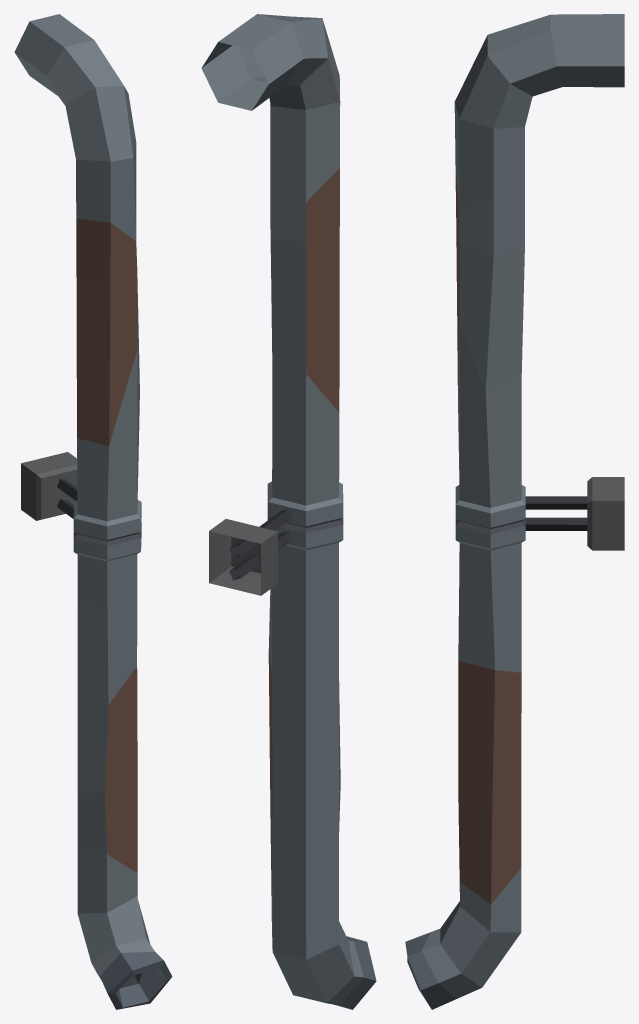
The model's file is SM_Rainwater_Pipe_3m.fbx.
3 renders of one model, left to right at view 1: azimuth 30°, elevation 25°; view 2: azimuth 150°, elevation 25°; view 3: azimuth 270°, elevation 25°, orthographic. The views are drawn at different scales.
Visible parts, largest first — view 1: SM_Rainwater_Pipe_3m; view 2: SM_Rainwater_Pipe_3m; view 3: SM_Rainwater_Pipe_3m.
Boxes of the visible parts, x1,y1,x2,y2 form: SM_Rainwater_Pipe_3m: (14,14,172,1009); SM_Rainwater_Pipe_3m: (201,14,376,1009); SM_Rainwater_Pipe_3m: (405,14,624,1009).
Size of the model in its own units: 25.76 by 335 by 67.85.
